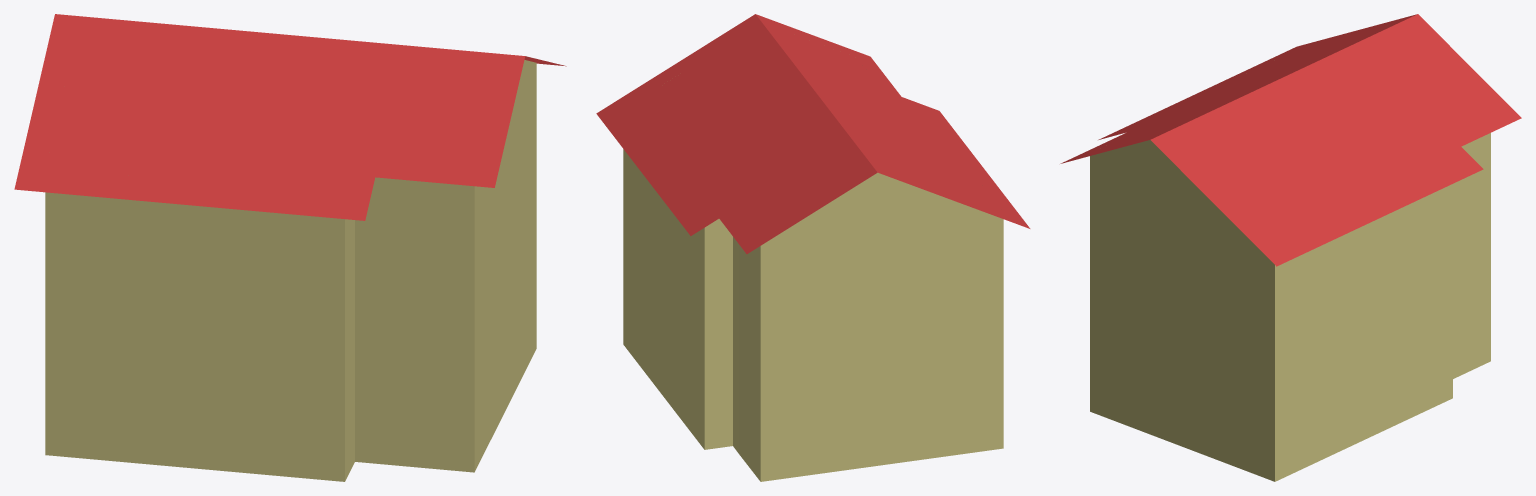
3 views of the same model, side by side, from view 1: azimuth 30°, elevation 25°; view 2: azimuth 150°, elevation 25°; view 3: azimuth 270°, elevation 25° (orthographic). The views are drawn at different scales.
Bounding box in the file's own units: 17.89 × 15.9 × 11.64.
